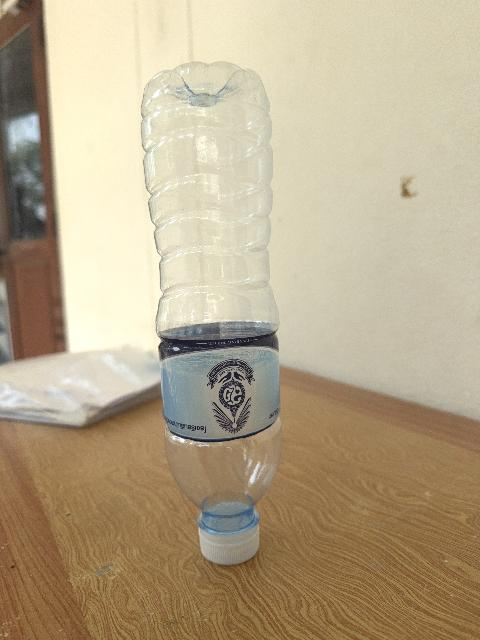bottle: (142, 63, 281, 564)
